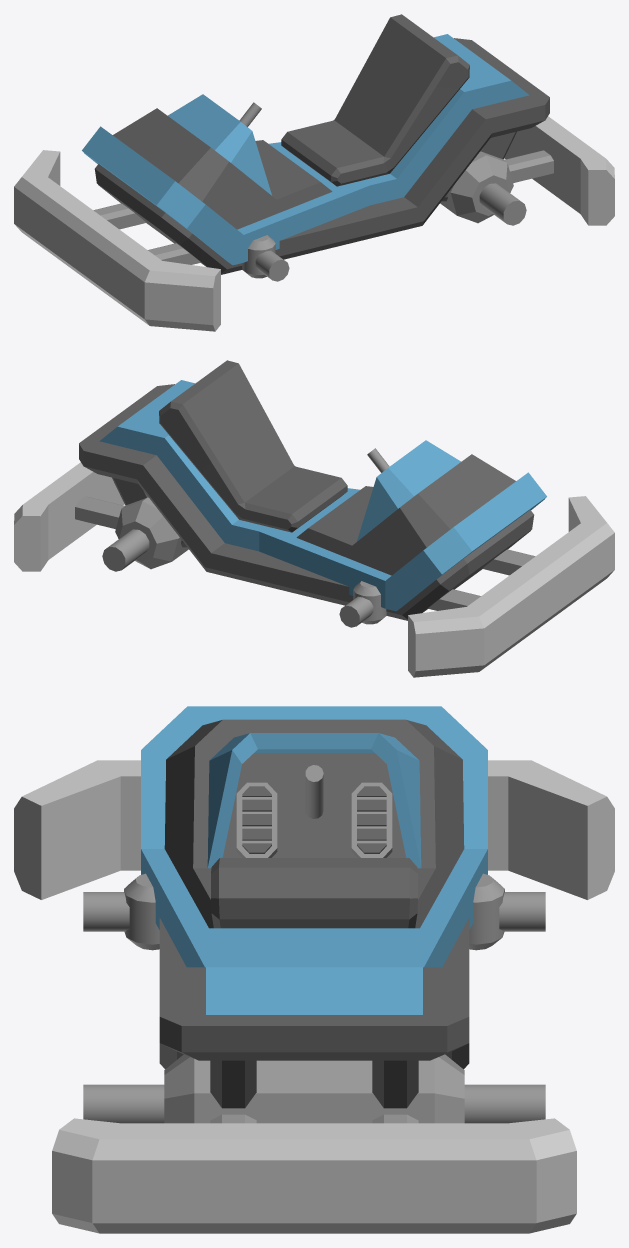
Rendered from kart.obj.
The picture shows the model from 3 angles, top to bottom: view 1: azimuth 30°, elevation 25°; view 2: azimuth 150°, elevation 25°; view 3: azimuth 270°, elevation 25°; orthographic projection. The views are drawn at different scales.
Visible parts, largest first — view 1: object22, object28, object3, object39, object1, object29, object33, object21, object5, object31, object37, object38 (+3 smaller); view 2: object22, object28, object3, object39, object1, object29, object33, object21, object5, object11, object10, object18 (+3 smaller); view 3: object29, object22, object3, object1, object39, object21, object28, object33, object5, object32, object40, object30 (+6 smaller).
Part boxes in pixels (x1,y1,x2,y2): object22: (82,34,529,265); object28: (281,14,469,186); object3: (14,150,220,331); object39: (94,38,549,274); object1: (113,108,332,229); object29: (504,116,614,225); object33: (168,94,271,195); object21: (440,151,513,223); object5: (479,183,526,225); object31: (504,150,553,183); object37: (93,203,146,229); object38: (255,250,289,281); object22: (99,380,546,611); object28: (159,360,347,532); object3: (408,496,614,677); object39: (79,384,534,620); object1: (296,454,515,575); object29: (14,462,124,571); object33: (357,440,460,541); object21: (115,497,188,569); object5: (102,529,149,571); object11: (75,496,124,529); object10: (482,549,535,575); object18: (339,596,373,627); object29: (52,1118,576,1233); object22: (141,706,487,1014); object3: (14,760,614,899); object1: (164,719,464,928); object39: (159,918,469,1069); object21: (164,1054,464,1123); object28: (211,858,417,928); object33: (207,733,421,868); object5: (83,1084,545,1123); object32: (372,1060,418,1108); object40: (210,1060,256,1108); object30: (469,873,504,950).
Bounding box in the file's own units: 3.99 × 1.34 × 2.6.
